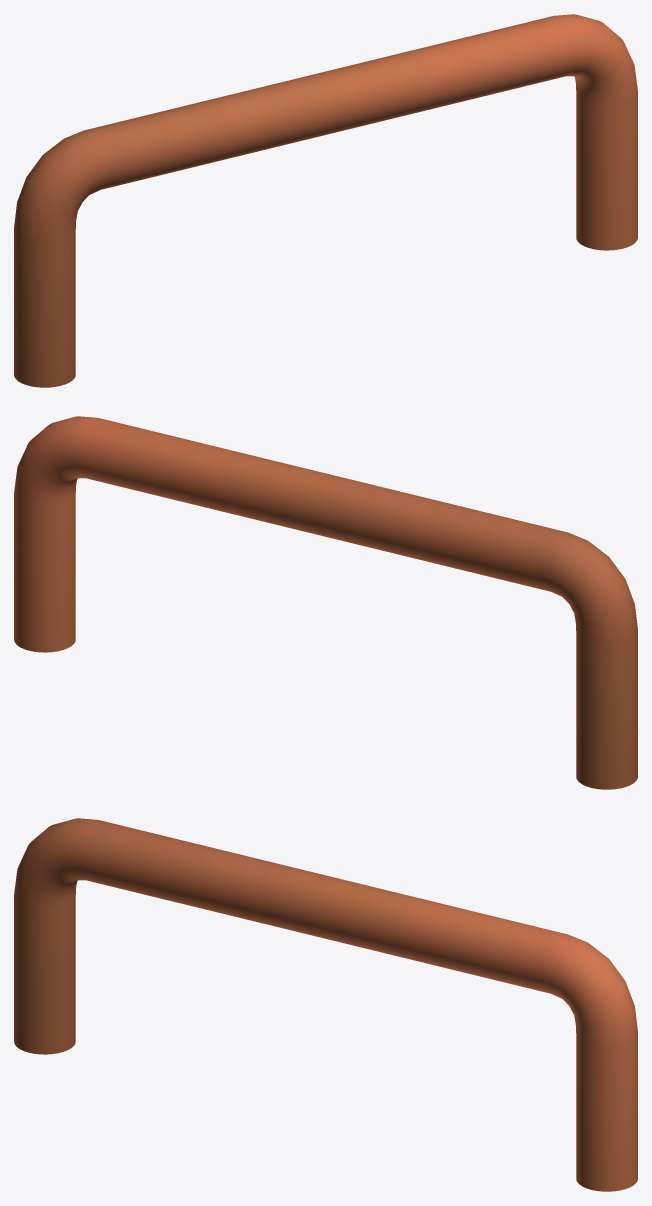
The model's file is Gate_Barrier.fbx.
3 views of the same model, one above another, from view 1: azimuth 30°, elevation 25°; view 2: azimuth 150°, elevation 25°; view 3: azimuth 330°, elevation 25° (orthographic).
Visible parts, largest first — view 1: Cylinder; view 2: Cylinder; view 3: Cylinder.
Boxes of the visible parts, x1,y1,x2,y2 form: Cylinder: [14, 14, 637, 387]; Cylinder: [14, 416, 637, 789]; Cylinder: [14, 818, 637, 1191].
Size of the model in its own units: 115 by 41.14 by 10.
